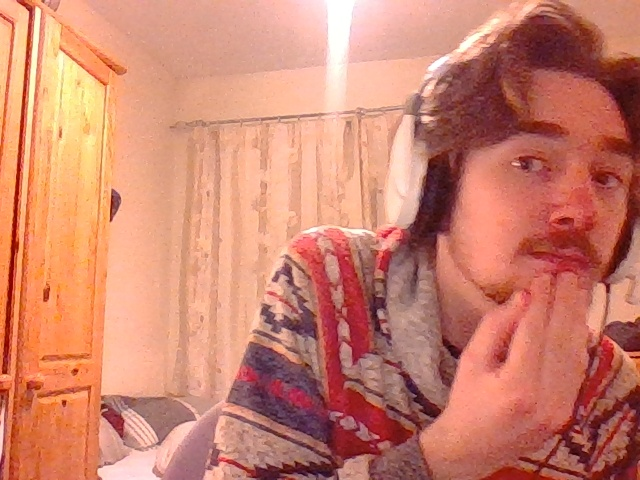thanks: (456, 271, 592, 451)
